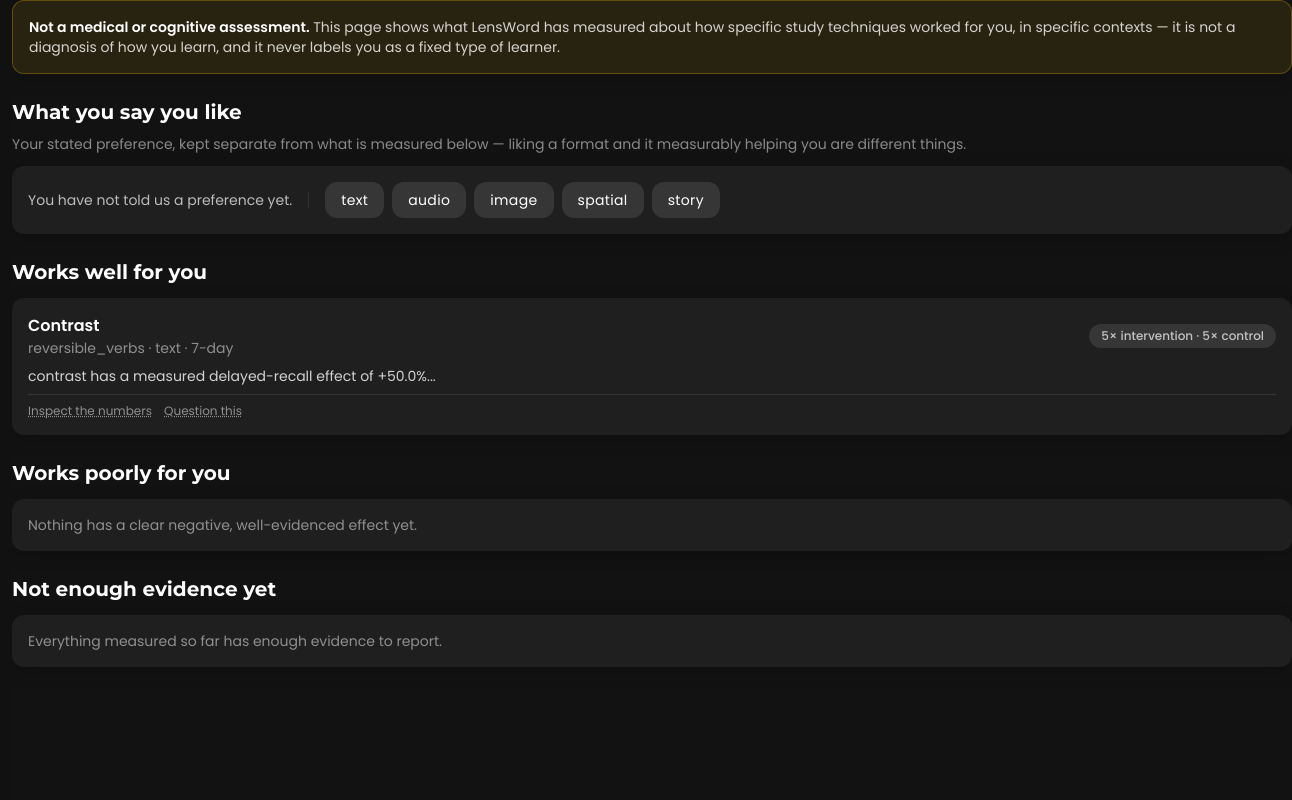
Test: LearningDnaTab › lets a learner inspect the underlying numbers
The width and height of the screenshot is (1292, 800).
Click the button "Inspect the numbers" at x=90, y=411, box [28,403,152,419]
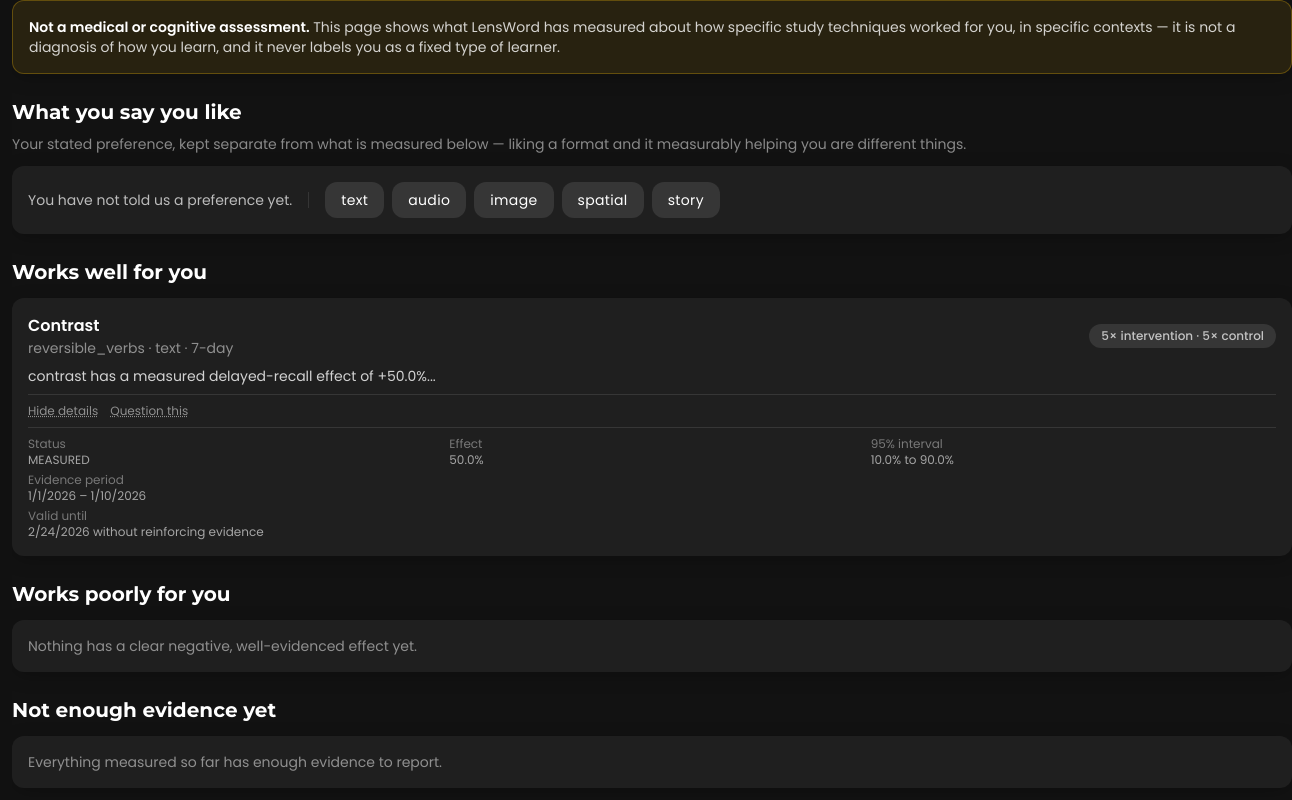
Result: the text "95% interval" is shown at [871,435,943,452]
